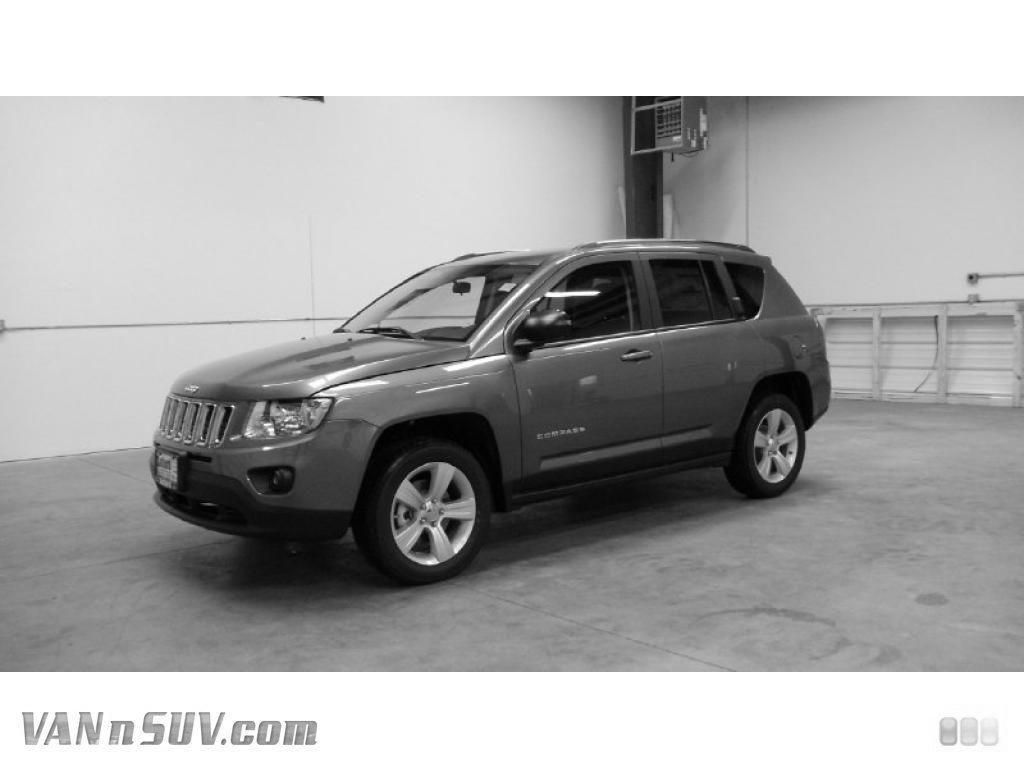car: (147, 241, 838, 589)
